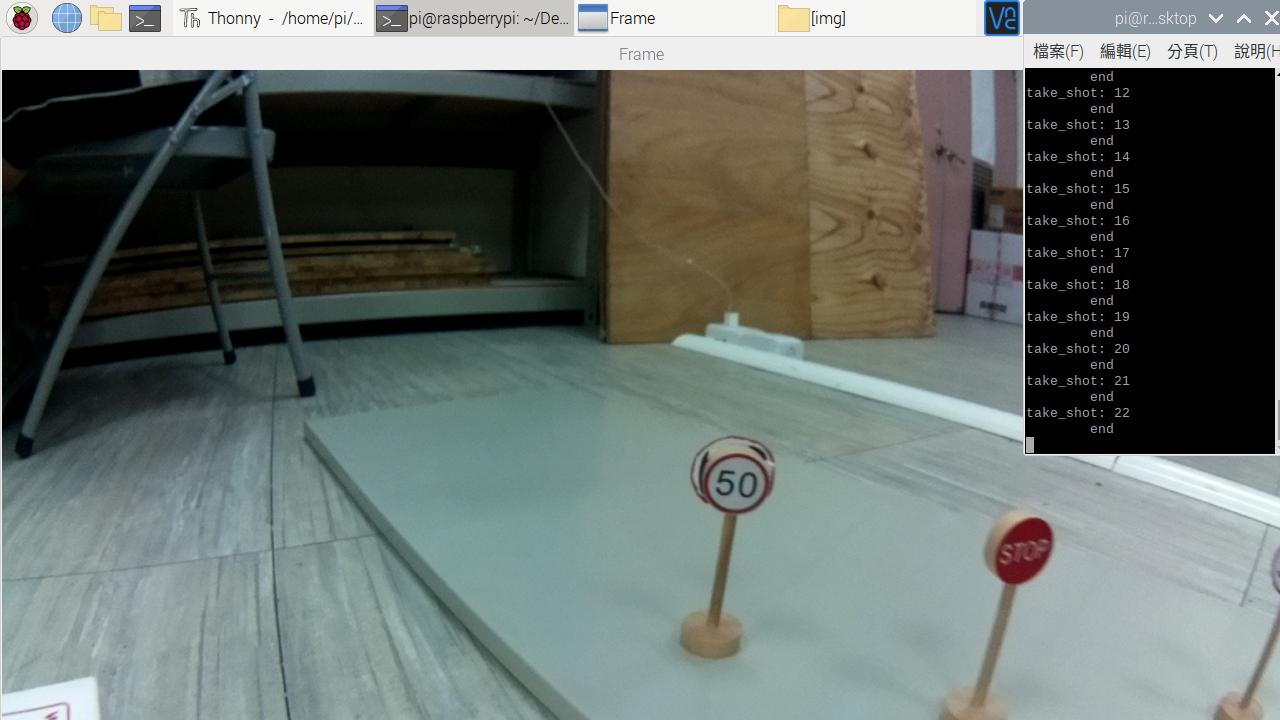Speed50: (706, 447, 768, 512)
Stop: (980, 505, 1062, 586)
